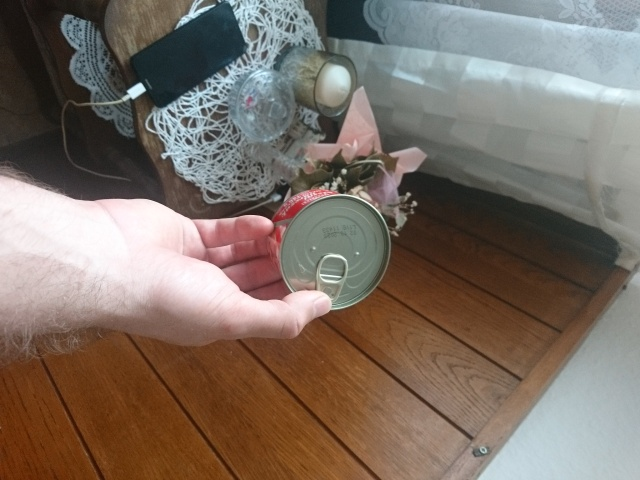Podravka Luncheon Meat 150g: (261, 186, 395, 313)
